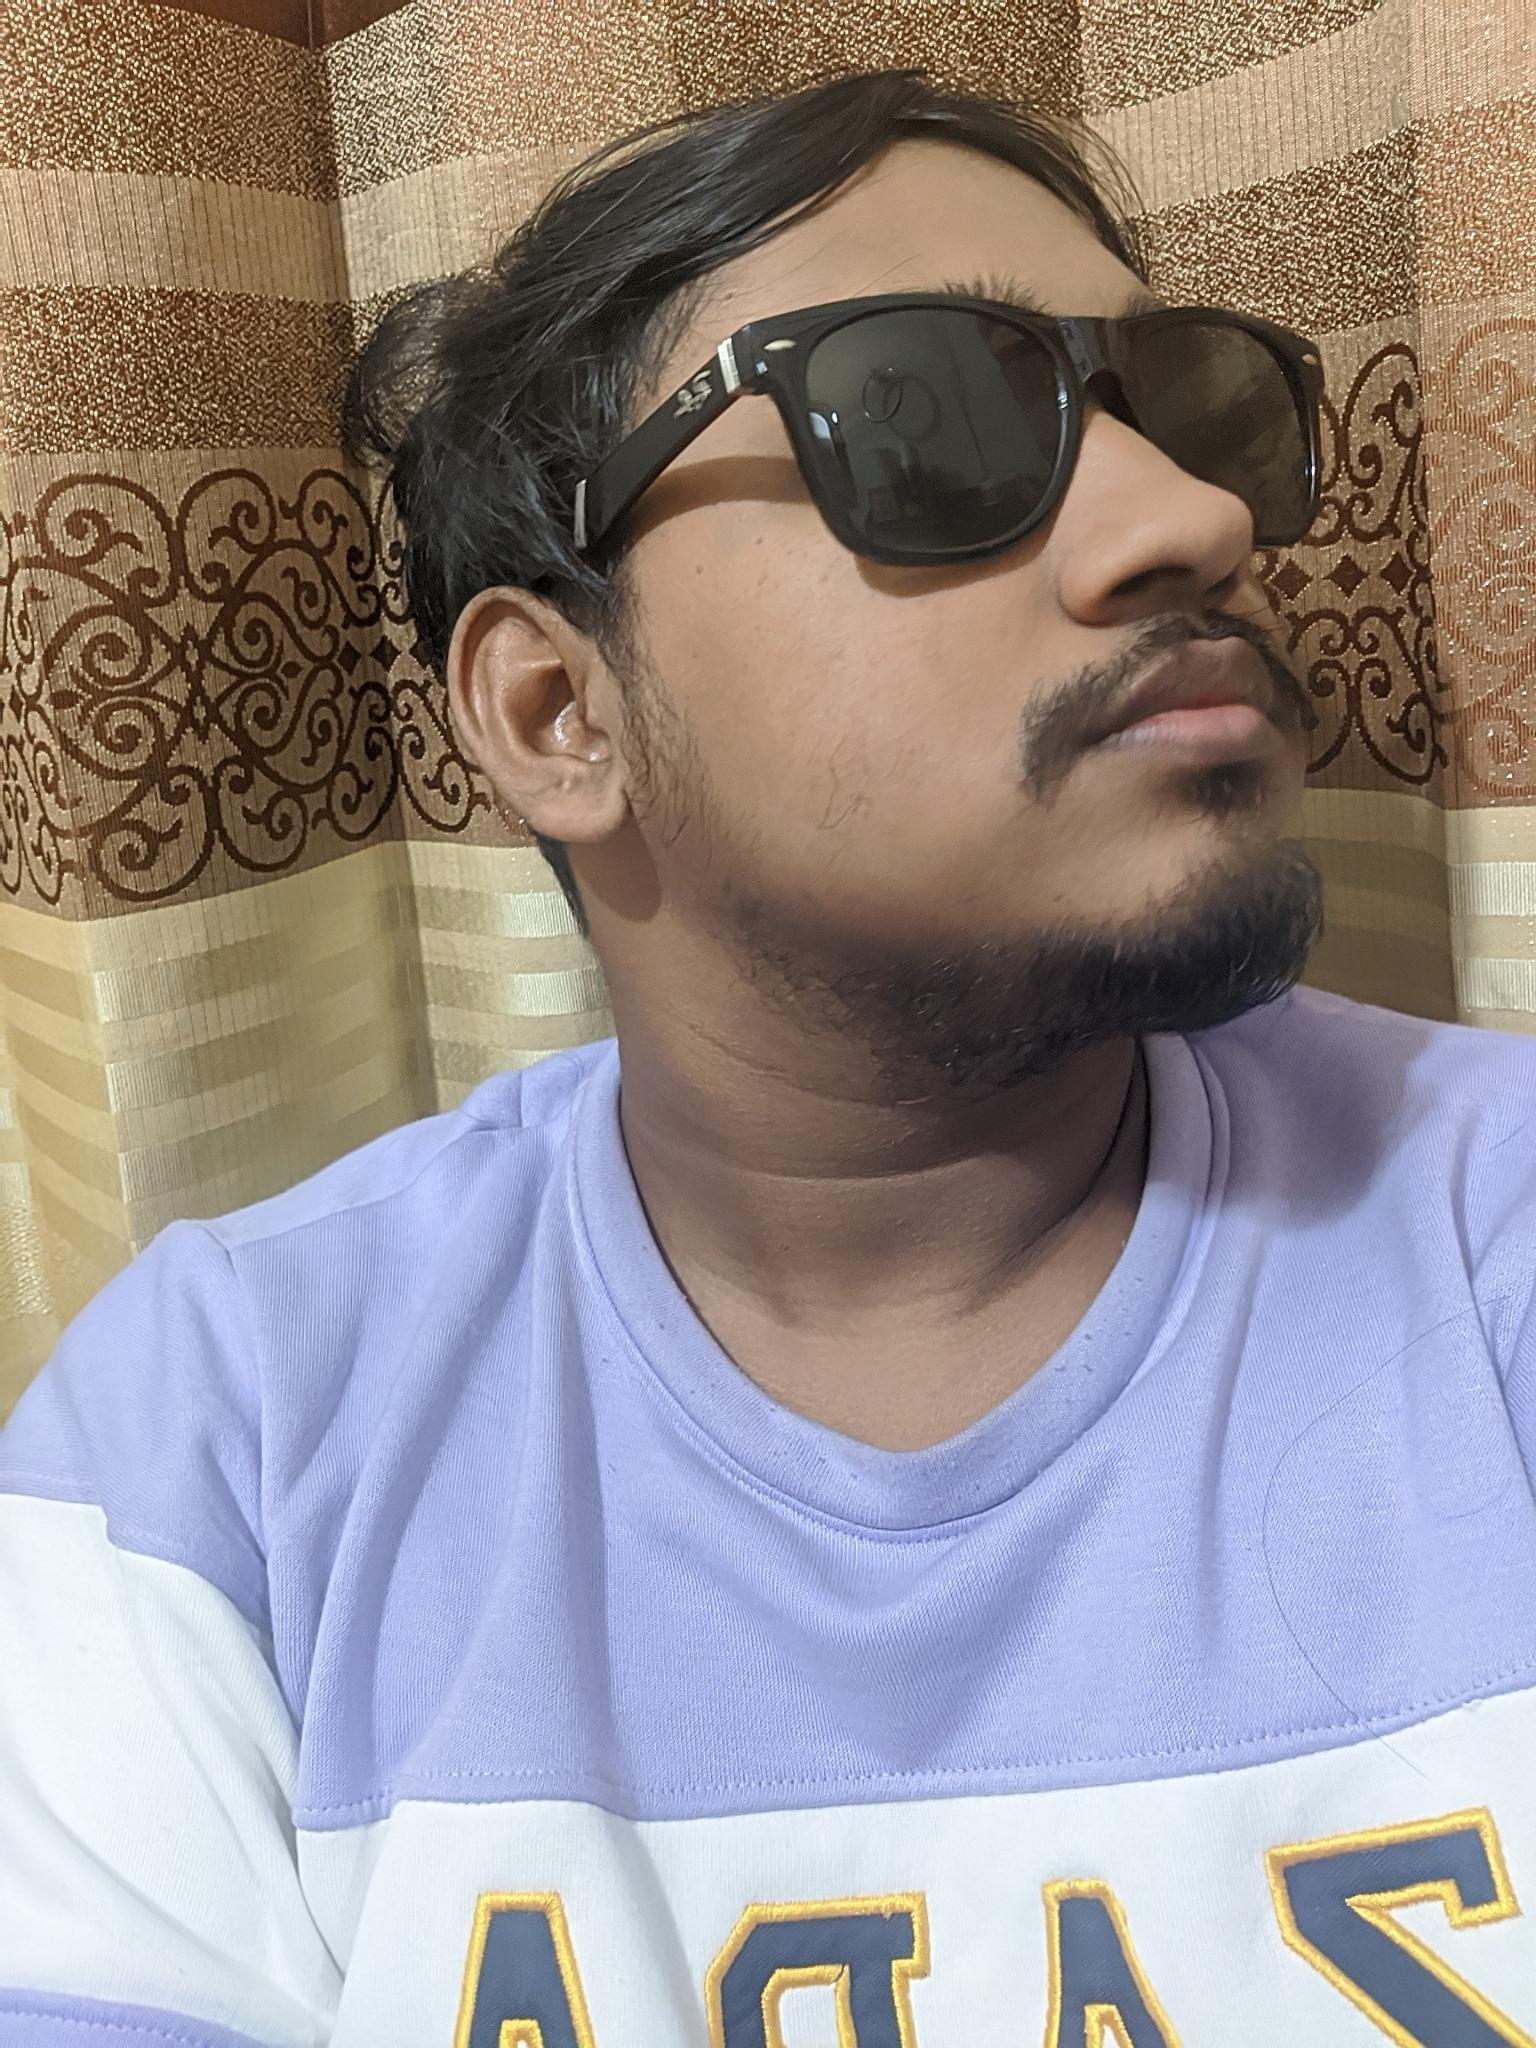Neutral: (739, 242, 1439, 998)
